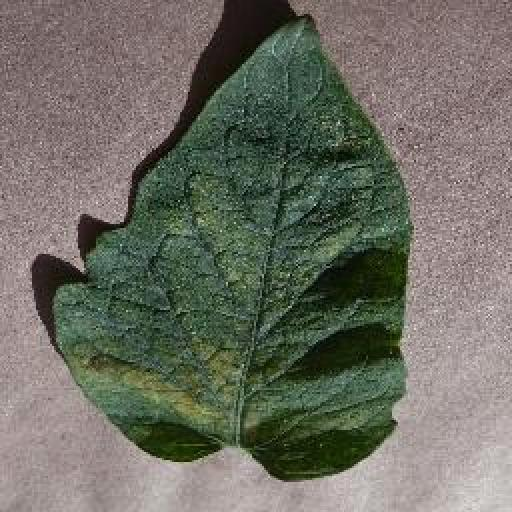disease_tomato: (54, 12, 416, 476)
